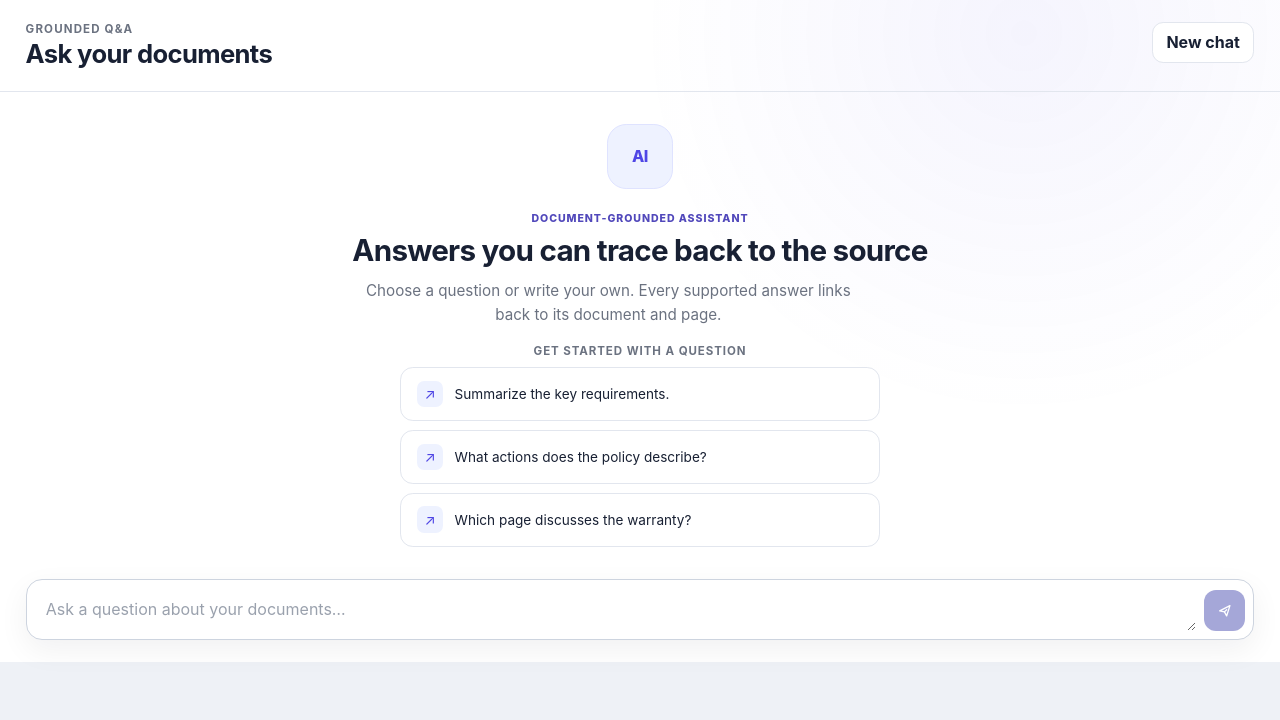
ChatPanel › renders a grounded answer and sources
The image size is (1280, 720).
In the text box labelled "Ask a question about your documents": [615, 610] box [35, 588, 1196, 632], type "What is the warranty period?"
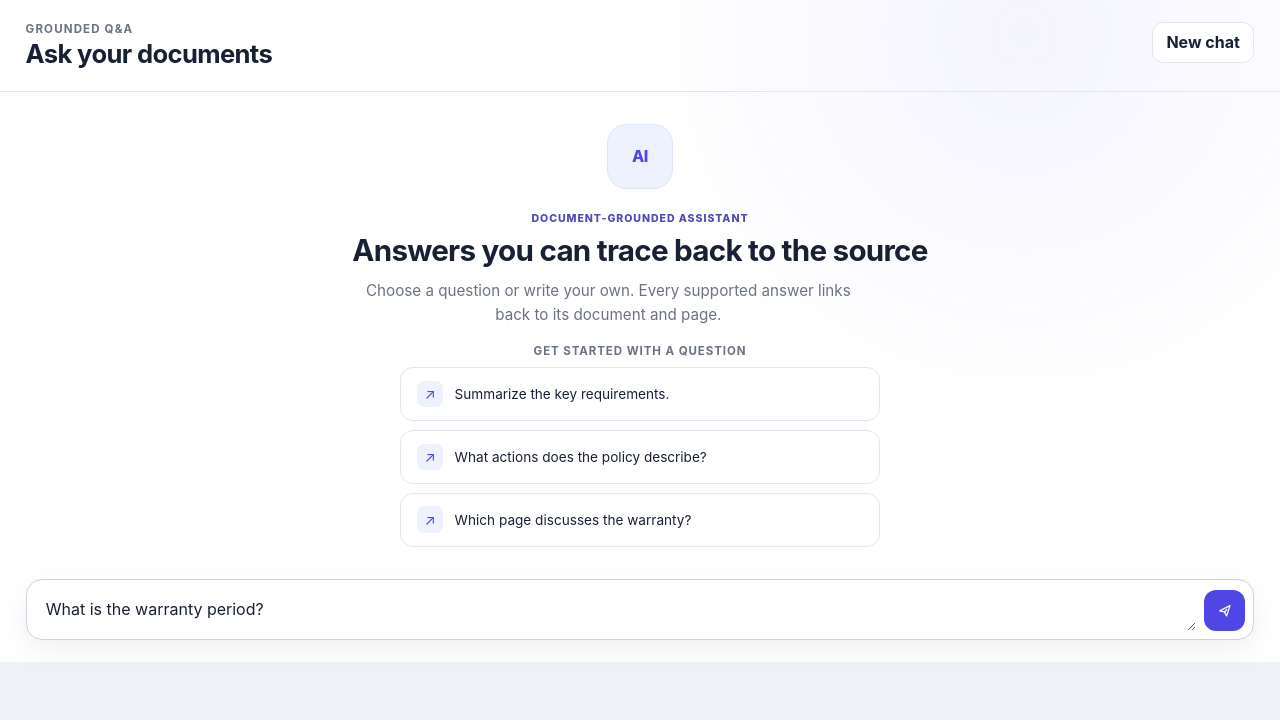
Click the button named "Send question": [1225, 611] box [1204, 590, 1245, 632]
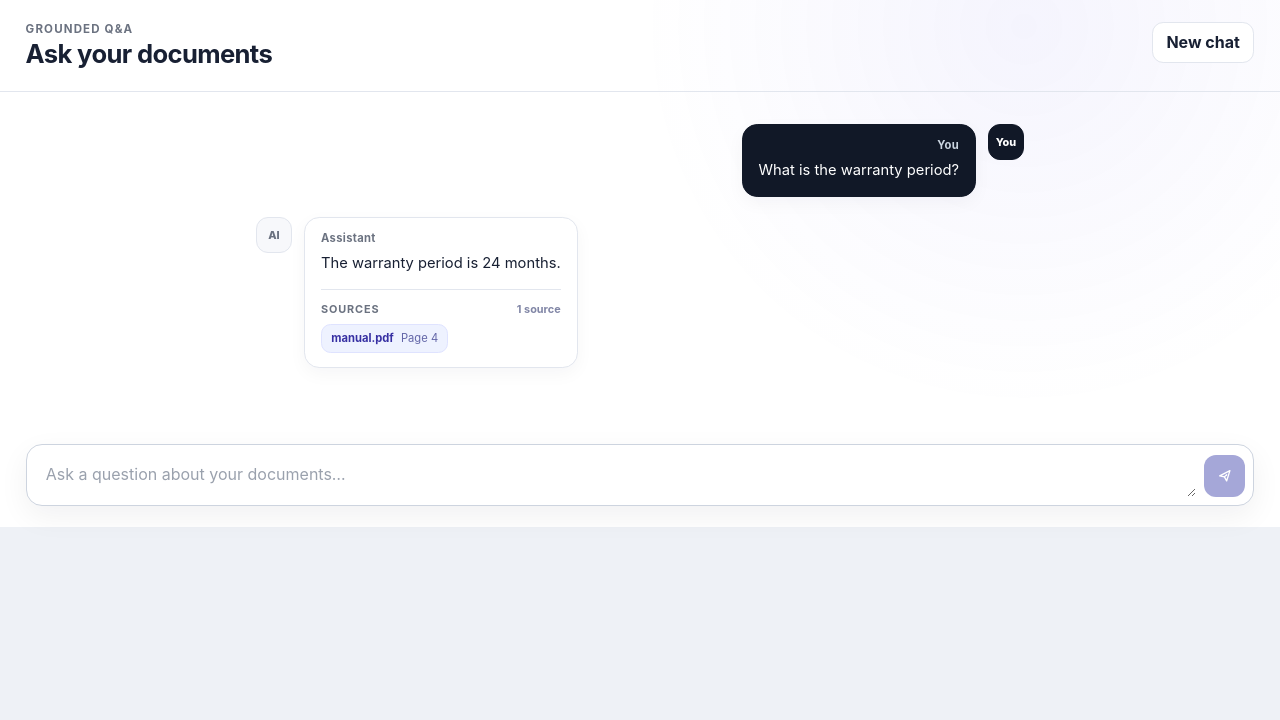
Expected: the element named "User message" shows "What is the warranty period?", [758, 161, 959, 179]
Expected: the element named "Assistant message" shows "The warranty period is 24 months.", [321, 254, 561, 272]
Expected: the text "manual.pdf" is shown, [331, 331, 394, 345]
